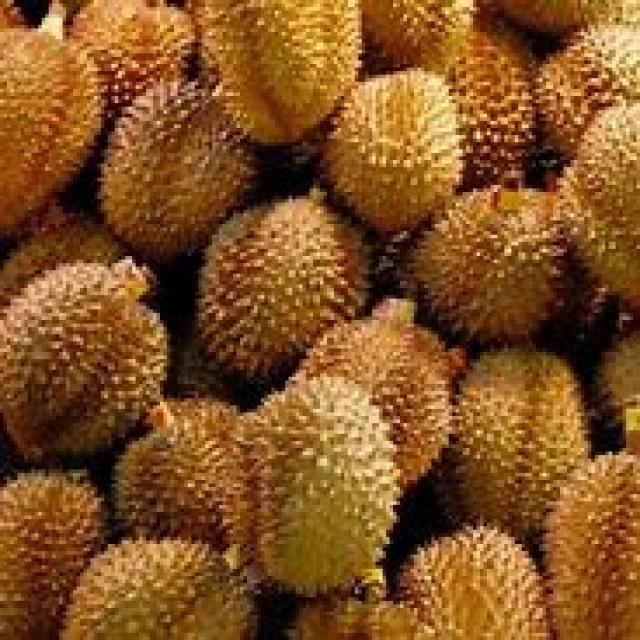mature: (0, 258, 168, 459), (294, 298, 465, 487), (199, 197, 368, 379), (439, 349, 589, 544), (100, 80, 256, 263), (406, 187, 565, 344), (115, 400, 261, 569), (322, 68, 462, 232), (61, 539, 252, 639)
